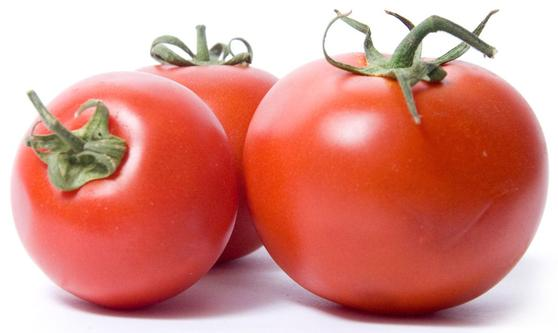tomato: (241, 43, 548, 318), (14, 69, 236, 311)
